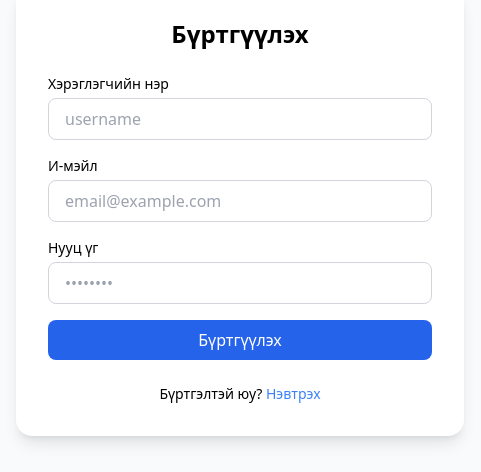
Test: RegisterPage › 11. should show validation error for weak password
In the field with placeholder "username": point(240, 119) [48, 98, 432, 140], type "testuser"
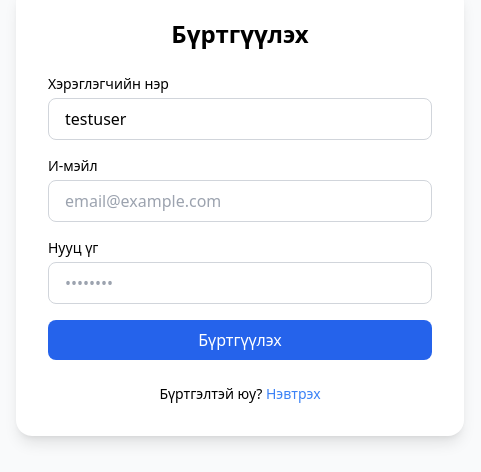
In the field with placeholder "email@example.com": point(240, 201) [48, 180, 432, 222], type "test@example.com"
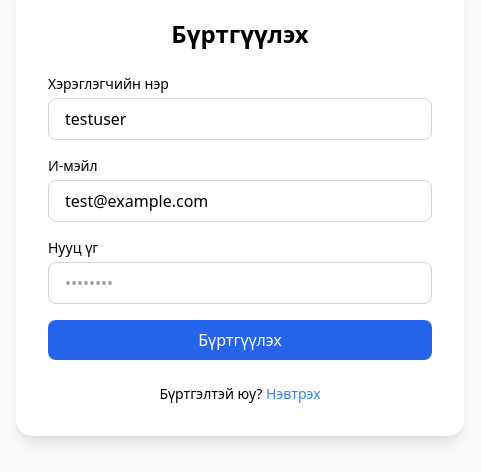
In the password field with placeholder "••••••••": point(240, 283) [48, 262, 432, 304], type "weak"
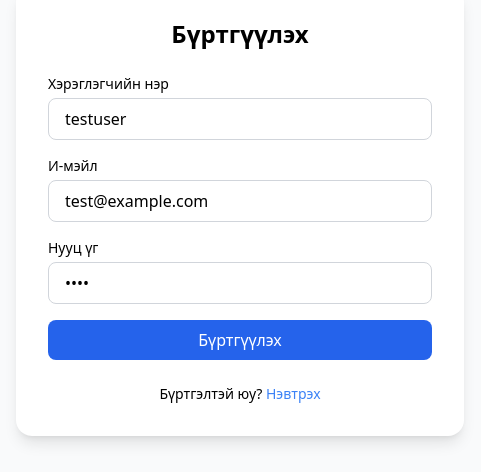
Click the button "Бүртгүүлэх": point(240, 340) [48, 320, 432, 360]
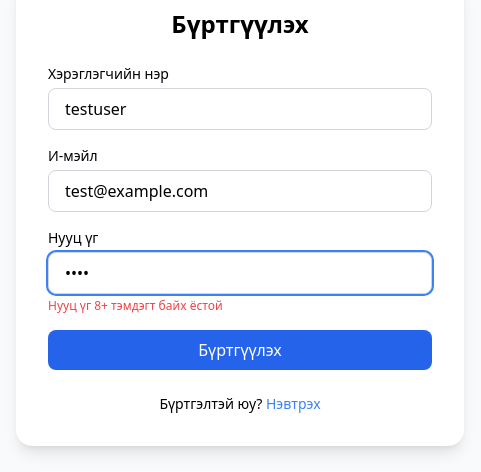
Check: the text "Нууц үг 8+ тэмдэгт байх ёстой" is shown, box [48, 297, 223, 314]
